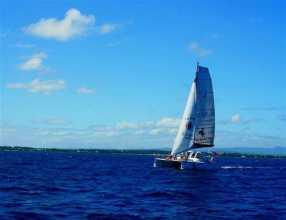fanchuan: (148, 62, 242, 173)
